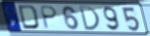5: (121, 6, 141, 32)
6: (62, 6, 80, 31)
9: (103, 6, 121, 32)
D: (17, 4, 41, 31), (78, 5, 102, 32)
P: (40, 5, 59, 30)
